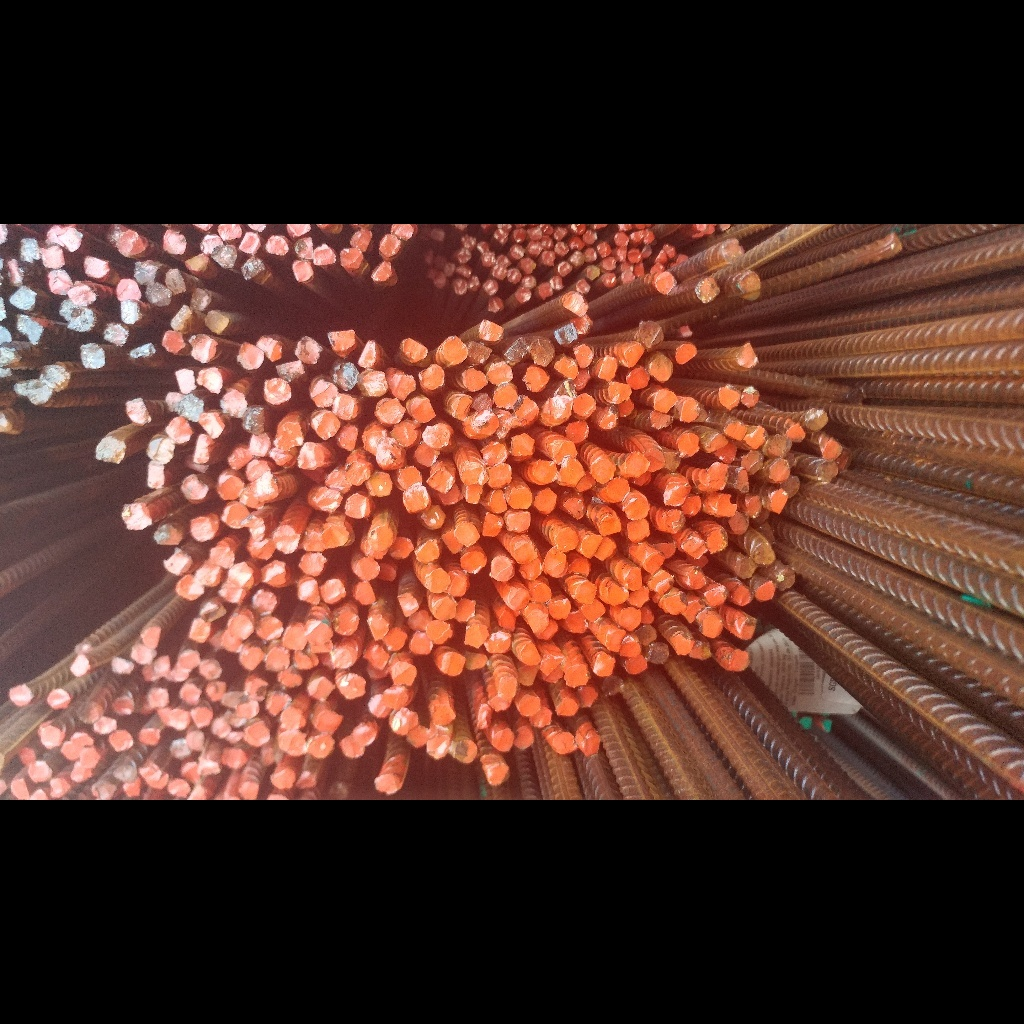dipstick: (12, 378, 53, 405), (555, 456, 585, 488), (187, 333, 218, 363), (375, 437, 405, 467), (95, 437, 126, 465), (121, 503, 153, 530), (236, 341, 265, 370), (16, 316, 45, 345), (544, 396, 574, 424), (274, 423, 305, 450), (37, 365, 69, 391), (278, 730, 307, 758), (272, 526, 300, 555), (512, 396, 539, 426), (331, 362, 358, 392), (327, 329, 357, 356), (297, 442, 325, 470), (164, 415, 192, 443), (337, 673, 366, 700), (295, 336, 322, 365), (262, 377, 291, 404), (219, 391, 248, 418), (176, 395, 205, 422), (403, 482, 429, 512), (376, 399, 406, 425), (116, 231, 146, 257), (66, 284, 98, 308), (256, 335, 283, 363), (249, 475, 277, 502), (228, 562, 256, 589), (391, 709, 420, 735), (313, 411, 339, 440), (240, 404, 264, 435), (695, 277, 722, 304), (488, 555, 515, 582), (418, 363, 445, 390), (389, 373, 416, 400), (389, 419, 416, 446), (365, 471, 392, 498), (319, 578, 346, 605), (321, 522, 348, 549), (311, 381, 338, 408), (196, 367, 223, 394), (251, 590, 278, 617), (125, 398, 152, 425), (315, 487, 343, 513), (147, 437, 175, 463), (197, 412, 225, 438), (529, 338, 554, 367), (359, 535, 388, 560), (503, 338, 529, 365), (522, 366, 549, 392), (362, 370, 388, 397), (266, 691, 293, 717), (176, 574, 203, 600), (46, 270, 73, 296), (561, 291, 589, 316), (443, 336, 468, 364), (425, 469, 453, 494), (308, 677, 336, 702), (738, 271, 762, 300), (640, 321, 664, 350), (439, 651, 466, 676), (422, 423, 449, 448), (363, 431, 388, 458), (368, 525, 393, 552), (363, 646, 390, 671), (242, 514, 267, 541), (262, 560, 287, 587), (217, 475, 244, 500), (307, 734, 335, 758), (298, 552, 326, 576), (255, 616, 283, 640), (543, 547, 566, 576), (624, 451, 650, 476), (504, 587, 530, 612), (383, 626, 408, 652), (391, 662, 417, 687), (344, 493, 369, 519), (345, 461, 371, 486), (300, 529, 326, 554), (80, 343, 105, 369), (663, 482, 690, 506), (472, 410, 499, 434), (426, 567, 450, 594), (398, 465, 422, 492), (401, 337, 428, 361), (353, 557, 380, 581), (324, 469, 351, 493), (334, 424, 358, 451), (244, 676, 268, 703), (222, 505, 249, 529), (485, 632, 513, 655), (154, 523, 182, 546), (145, 283, 173, 306), (67, 309, 95, 332), (707, 462, 729, 491), (276, 361, 305, 383), (247, 537, 276, 559), (8, 287, 37, 309), (648, 356, 673, 381), (453, 740, 478, 765), (415, 539, 440, 564), (411, 398, 436, 423), (265, 646, 290, 671), (239, 646, 264, 671), (228, 615, 253, 640), (509, 433, 535, 457), (534, 487, 558, 513), (463, 625, 489, 649), (486, 463, 512, 487), (454, 522, 480, 546), (409, 630, 433, 656), (340, 735, 366, 759), (332, 396, 358, 420), (219, 580, 245, 604), (182, 475, 208, 499), (460, 551, 487, 574), (277, 665, 304, 688), (243, 723, 270, 746), (195, 563, 222, 586), (494, 409, 514, 440), (480, 443, 508, 465), (103, 325, 131, 347), (164, 553, 193, 574), (683, 534, 707, 559), (552, 731, 577, 755), (533, 458, 557, 483), (453, 598, 477, 623), (415, 443, 440, 467), (204, 310, 229, 334), (161, 330, 186, 354), (596, 404, 619, 430), (591, 459, 614, 485), (477, 319, 503, 342), (467, 342, 493, 365), (367, 615, 390, 641), (200, 599, 226, 622), (211, 246, 237, 269), (116, 278, 142, 301), (623, 497, 650, 519), (426, 621, 453, 643), (316, 711, 343, 733), (305, 622, 332, 644), (280, 708, 307, 730), (56, 229, 83, 251), (82, 257, 110, 278), (485, 365, 514, 385), (358, 339, 378, 368), (818, 434, 842, 458), (721, 239, 745, 263), (572, 393, 596, 417), (555, 528, 579, 552), (421, 505, 445, 529), (368, 694, 392, 718), (769, 457, 792, 482), (526, 609, 549, 634), (427, 735, 450, 760), (433, 596, 456, 621), (334, 612, 359, 635), (133, 262, 158, 285), (553, 357, 579, 379), (480, 511, 502, 537), (388, 536, 414, 558), (221, 747, 247, 769), (170, 304, 192, 330), (164, 268, 186, 294), (8, 683, 34, 705), (766, 435, 793, 456), (298, 579, 319, 606), (292, 649, 319, 670), (26, 761, 53, 782), (726, 650, 750, 673), (735, 616, 758, 640), (705, 529, 728, 553), (626, 519, 650, 542), (582, 599, 606, 622), (463, 368, 487, 391), (352, 724, 376, 747), (331, 646, 355, 669), (282, 626, 305, 650), (162, 231, 186, 254), (140, 627, 164, 650), (77, 702, 101, 725), (664, 509, 686, 534), (623, 342, 645, 367), (553, 323, 578, 345), (594, 536, 616, 561), (581, 533, 603, 558), (552, 441, 577, 463), (564, 421, 589, 443), (446, 572, 468, 597), (240, 488, 265, 510), (228, 447, 253, 469), (241, 258, 266, 280), (120, 300, 142, 325), (41, 246, 66, 268), (643, 643, 669, 664), (507, 488, 533, 509), (246, 459, 272, 480), (191, 516, 212, 542), (19, 237, 40, 263), (452, 394, 471, 422), (699, 615, 722, 638), (816, 460, 839, 483), (805, 407, 828, 430), (654, 389, 677, 412), (674, 342, 697, 365), (492, 728, 515, 751), (487, 763, 510, 786), (728, 510, 750, 534), (643, 448, 665, 472), (744, 426, 768, 448), (625, 367, 649, 389), (575, 581, 597, 605), (514, 543, 538, 565), (512, 726, 534, 750), (397, 593, 419, 617), (248, 433, 270, 457), (211, 546, 235, 568), (293, 237, 315, 261), (736, 343, 757, 368), (564, 665, 589, 686), (533, 620, 558, 641), (431, 704, 456, 725), (408, 609, 433, 630), (189, 618, 210, 643), (340, 248, 365, 269), (108, 730, 133, 751), (92, 715, 118, 735), (769, 488, 788, 515), (374, 774, 401, 793), (193, 434, 210, 464), (665, 591, 687, 614), (643, 551, 665, 574), (678, 433, 700, 456), (718, 387, 740, 410), (570, 313, 593, 335), (593, 653, 615, 676), (519, 693, 541, 716), (565, 611, 588, 633), (486, 489, 508, 512), (190, 707, 213, 729), (174, 369, 196, 392), (313, 244, 336, 266), (38, 726, 61, 748), (686, 565, 707, 589), (743, 451, 764, 475), (620, 607, 641, 631), (723, 419, 747, 440), (678, 398, 699, 422), (606, 479, 630, 500), (506, 512, 530, 533), (355, 581, 376, 605), (147, 462, 165, 490), (573, 344, 593, 369), (270, 769, 295, 789), (265, 236, 290, 256), (475, 702, 494, 728), (131, 646, 158, 664), (715, 442, 737, 464), (549, 597, 571, 619), (563, 498, 585, 520), (519, 558, 541, 580), (575, 686, 598, 707), (539, 654, 562, 675), (494, 387, 517, 408), (460, 464, 483, 485), (438, 483, 461, 504), (1, 411, 22, 434), (147, 688, 170, 709), (168, 709, 189, 732), (179, 684, 202, 705), (112, 695, 135, 716), (520, 642, 540, 666), (497, 675, 517, 699), (200, 234, 224, 254), (703, 586, 728, 605), (129, 343, 155, 361), (574, 471, 596, 492), (441, 531, 462, 553), (210, 718, 232, 739), (205, 681, 227, 702), (190, 288, 211, 310), (293, 260, 314, 282), (68, 655, 90, 676), (139, 727, 161, 748), (78, 747, 100, 768), (752, 544, 775, 564), (717, 493, 737, 516), (626, 586, 649, 606), (606, 629, 626, 652), (70, 762, 93, 782), (683, 600, 702, 624), (597, 516, 621, 535), (600, 675, 624, 694), (237, 700, 261, 719), (623, 656, 648, 674), (110, 656, 135, 674), (217, 225, 243, 242), (671, 634, 692, 655), (607, 584, 628, 605), (655, 272, 676, 293), (517, 665, 538, 686), (407, 726, 428, 747), (779, 477, 801, 497), (529, 707, 551, 727), (375, 563, 397, 583), (200, 659, 222, 679), (221, 630, 241, 652), (238, 233, 260, 253), (350, 229, 372, 249), (705, 433, 728, 452), (599, 357, 618, 380), (464, 652, 487, 671), (383, 690, 406, 709), (106, 227, 129, 246), (685, 550, 709, 568), (608, 384, 632, 402), (540, 665, 564, 683), (185, 254, 209, 272), (7, 259, 25, 283), (47, 690, 71, 708), (60, 741, 84, 759), (48, 778, 72, 796), (91, 780, 116, 797), (755, 580, 775, 601), (775, 569, 796, 589), (682, 494, 702, 515), (636, 625, 657, 645), (1, 346, 22, 366), (168, 738, 189, 758), (689, 640, 711, 659), (556, 696, 578, 715), (269, 447, 291, 466), (139, 764, 161, 783), (583, 733, 601, 756), (237, 782, 260, 800), (221, 690, 244, 708), (167, 778, 190, 796), (328, 781, 351, 799), (531, 583, 551, 603), (141, 662, 161, 682), (184, 730, 204, 750), (179, 650, 200, 669), (122, 778, 143, 797), (741, 387, 759, 409), (488, 695, 510, 713), (625, 567, 642, 590), (650, 412, 673, 429), (366, 661, 389, 678), (197, 759, 220, 776), (114, 765, 137, 782), (148, 772, 171, 789), (734, 586, 754, 605), (737, 558, 756, 578), (572, 370, 591, 390), (568, 557, 589, 575), (497, 612, 518, 630), (178, 761, 200, 778), (743, 496, 761, 516), (655, 576, 675, 594), (663, 451, 681, 471), (472, 393, 492, 411), (466, 483, 484, 503), (619, 643, 640, 660), (154, 655, 171, 676), (554, 381, 576, 397), (735, 467, 749, 492), (653, 543, 676, 558), (11, 779, 29, 798), (886, 234, 903, 254), (60, 299, 76, 320), (295, 770, 316, 786), (46, 226, 64, 244), (455, 263, 474, 280), (165, 391, 181, 411), (167, 665, 187, 681), (785, 424, 806, 439), (617, 399, 634, 417), (451, 277, 468, 295), (538, 282, 554, 301), (372, 262, 386, 283), (519, 257, 536, 274), (71, 733, 93, 746), (287, 225, 312, 236), (568, 250, 585, 266), (487, 298, 504, 314), (482, 279, 499, 295), (491, 264, 507, 281), (481, 251, 497, 268), (17, 749, 35, 764), (493, 229, 509, 245), (456, 249, 472, 265), (640, 607, 654, 625), (211, 630, 223, 651), (516, 288, 532, 303), (506, 268, 521, 284), (541, 251, 556, 267), (554, 242, 570, 257), (567, 236, 583, 251), (511, 228, 527, 243), (461, 234, 476, 250), (432, 272, 447, 288), (380, 235, 390, 259), (429, 229, 446, 243), (157, 706, 171, 723), (627, 249, 642, 264), (597, 242, 612, 257), (526, 241, 541, 256), (465, 276, 480, 291), (614, 246, 628, 262), (557, 261, 571, 277), (581, 230, 597, 244), (1, 325, 14, 342), (602, 273, 617, 287), (586, 266, 601, 280), (602, 257, 617, 271), (615, 233, 629, 248), (549, 275, 563, 290), (521, 275, 536, 289), (509, 244, 524, 258), (538, 235, 553, 249), (433, 256, 448, 270), (552, 228, 568, 241), (583, 248, 597, 262), (423, 265, 437, 279), (476, 241, 491, 254), (495, 254, 511, 266), (31, 789, 48, 800), (663, 244, 676, 258), (527, 228, 542, 240), (441, 263, 456, 275), (423, 249, 435, 264), (619, 261, 635, 272), (655, 250, 667, 264), (634, 263, 645, 278), (680, 325, 693, 337), (643, 231, 655, 244), (630, 231, 643, 243), (640, 245, 652, 258), (621, 270, 635, 281), (650, 262, 664, 273), (538, 225, 553, 235), (676, 255, 687, 263)
